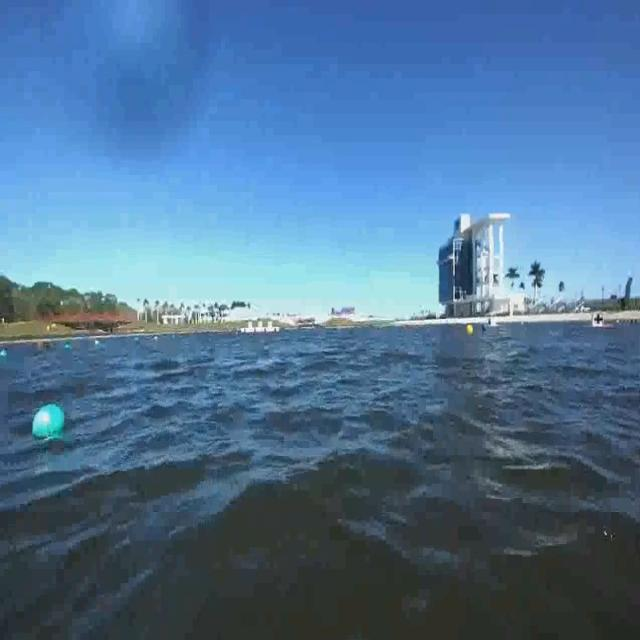green-buoy: (32, 407, 67, 442)
yellow-buoy: (469, 325, 476, 339)
